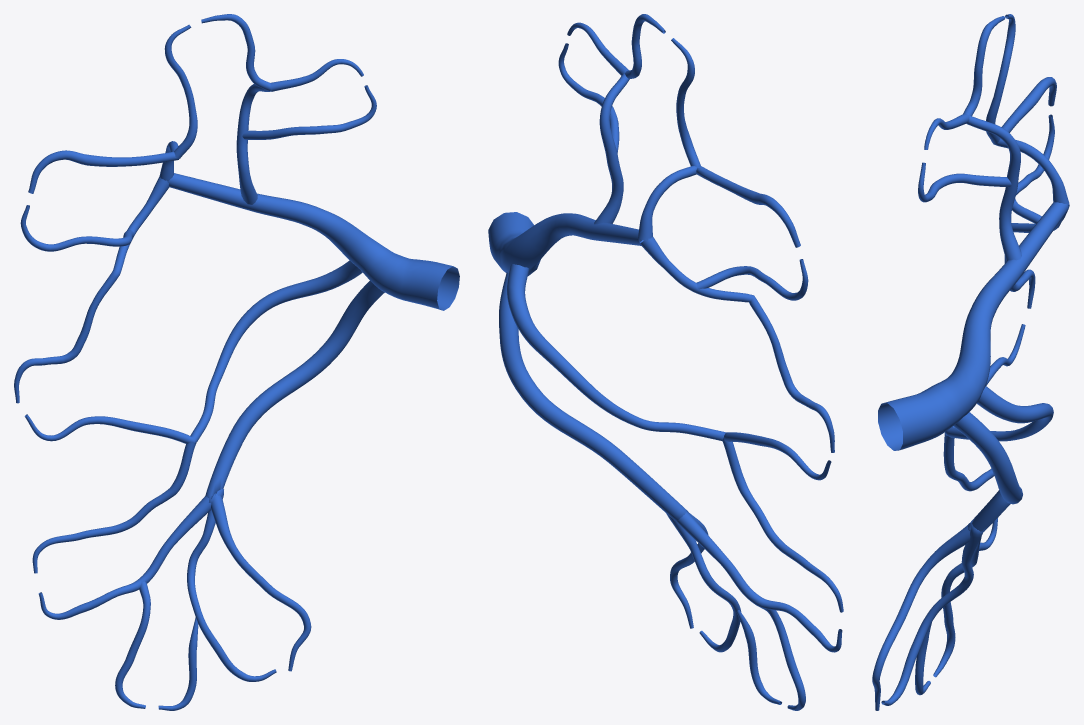
File: circulatorio-intrarenal-veins-of-right-kidney.glb
3 renders of one model, left to right at view 1: azimuth 30°, elevation 25°; view 2: azimuth 150°, elevation 25°; view 3: azimuth 270°, elevation 25°, orthographic. The views are drawn at different scales.
Parts seen in each view (by area): view 1: Intrarenal veins of right kidney; view 2: Intrarenal veins of right kidney; view 3: Intrarenal veins of right kidney.
Part boxes in pixels (x1,y1,x2,y2): Intrarenal veins of right kidney: (14, 14, 459, 710); Intrarenal veins of right kidney: (488, 14, 843, 710); Intrarenal veins of right kidney: (872, 14, 1069, 710).
Bounding box in the file's own units: 0.0481 × 0.0775 × 0.0194.
